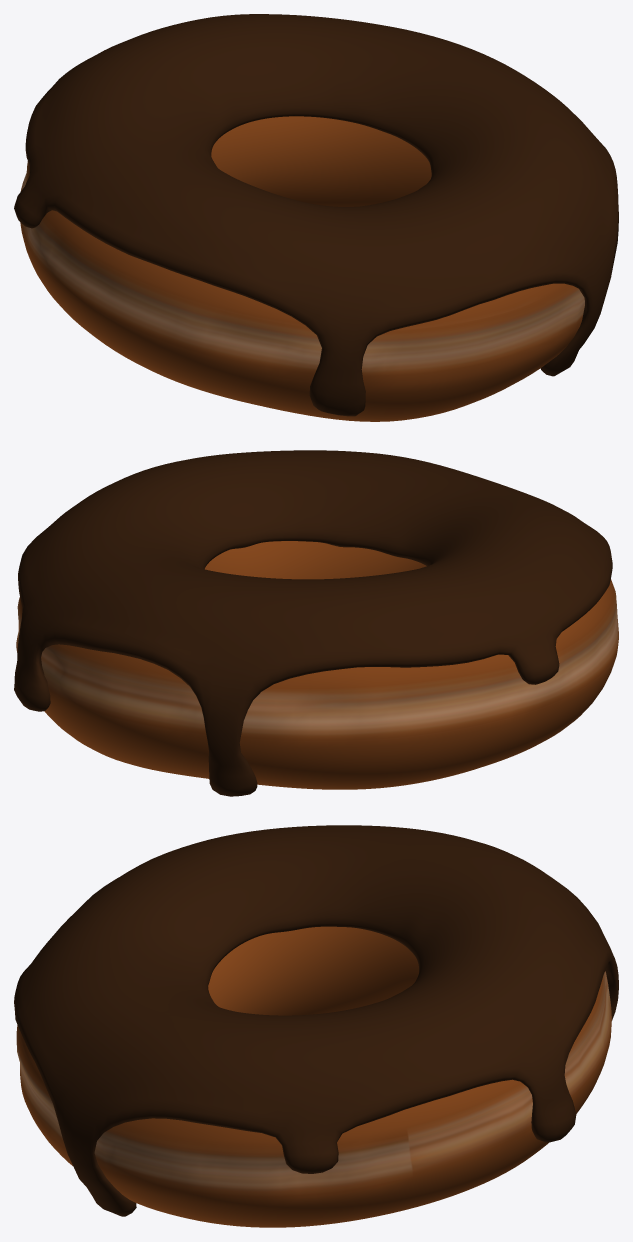
3 renders of one model, top to bottom at view 1: azimuth 30°, elevation 25°; view 2: azimuth 150°, elevation 25°; view 3: azimuth 270°, elevation 25°, orthographic.
Visible parts, largest first — view 1: icing_0, donut_1; view 2: icing_0, donut_1; view 3: icing_0, donut_1.
Boxes of the visible parts, <box> form: icing_0: <box>14,14,618,416</box>; donut_1: <box>20,116,584,421</box>; icing_0: <box>14,450,612,796</box>; donut_1: <box>16,541,618,789</box>; icing_0: <box>14,825,618,1216</box>; donut_1: <box>16,926,611,1227</box>.
Size of the model in its own units: 0.3062 by 0.1279 by 0.2958.
Materials: 2 (1 with a texture image).
